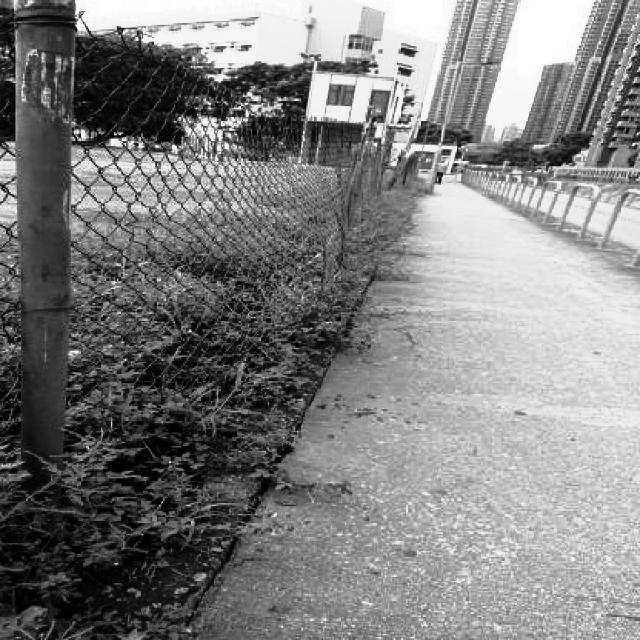anomaly-fence: (250, 128, 366, 315)
